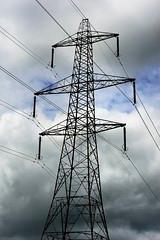power_tower: (32, 14, 138, 240)
